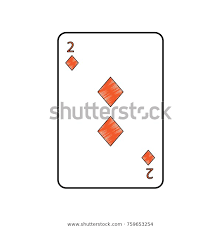two of diamonds: (56, 32, 166, 187)
